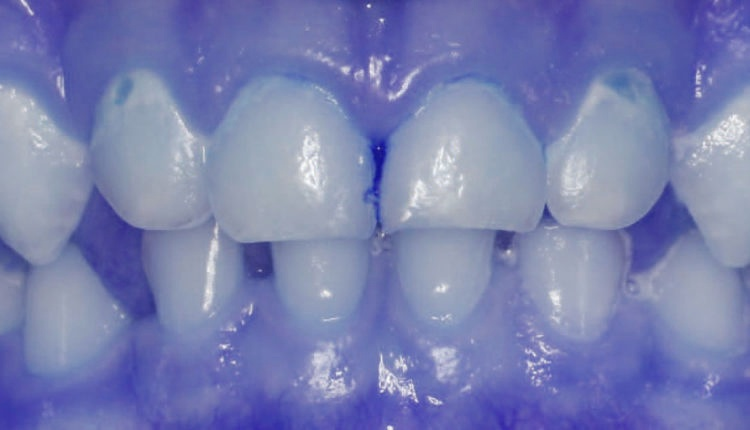karies: (588, 65, 656, 107), (108, 73, 141, 112)
